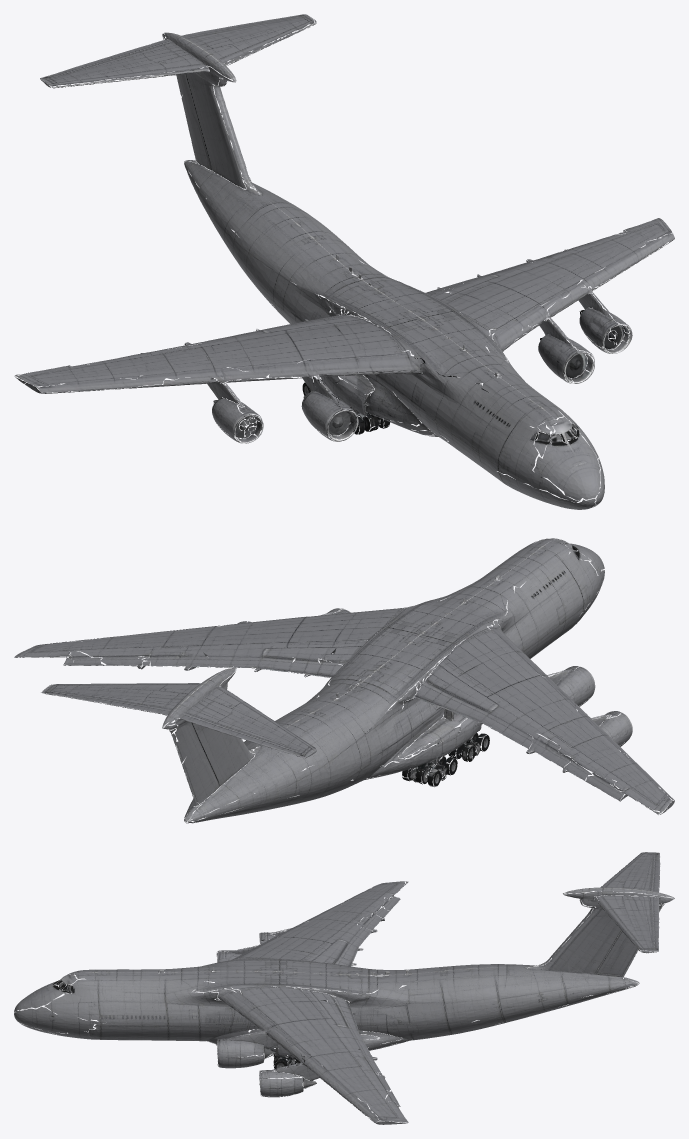
The picture shows the model from 3 angles, top to bottom: view 1: azimuth 30°, elevation 25°; view 2: azimuth 150°, elevation 25°; view 3: azimuth 270°, elevation 25°; orthographic projection. The views are drawn at different scales.
Bounding box in the file's own units: 1.64 × 0.5097 × 1.9.
1 material, 1 textured.
